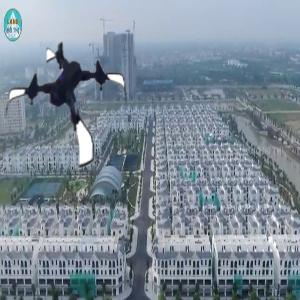drone: (3, 40, 134, 171)
